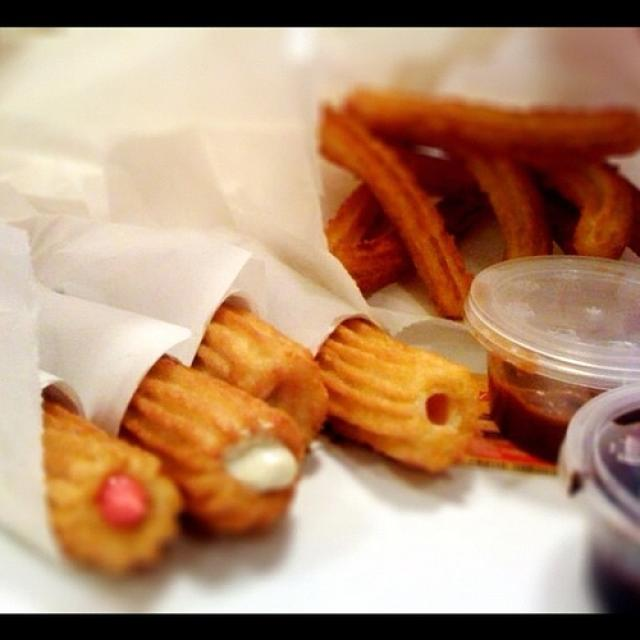炸货点心: (9, 50, 626, 613)
